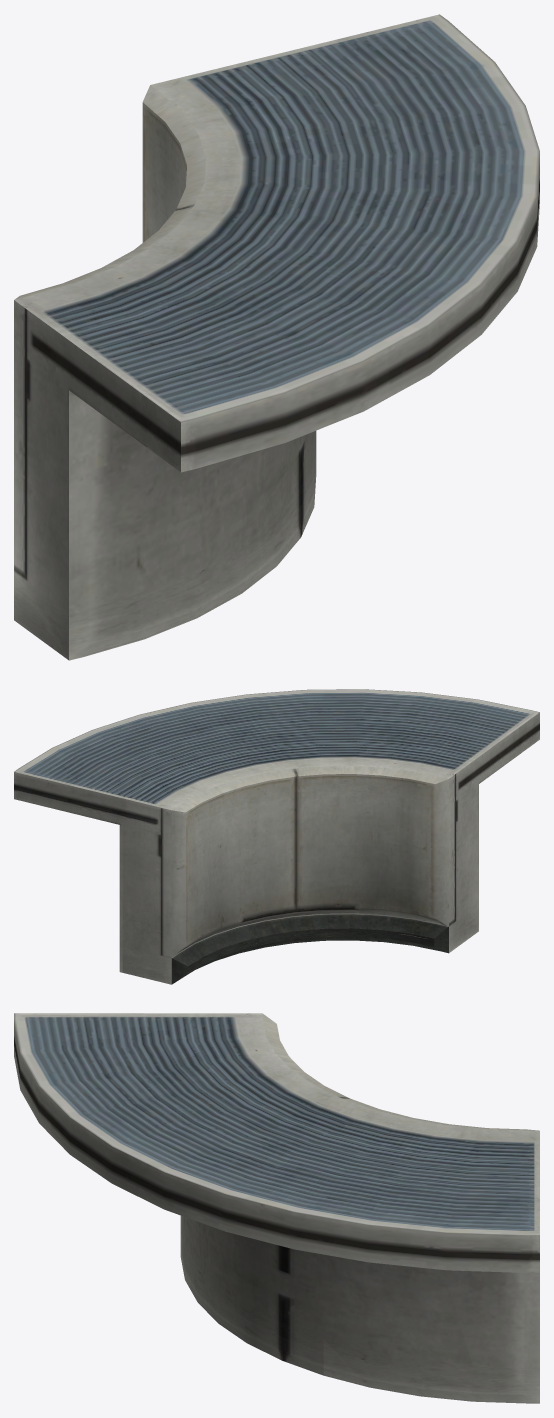
The model's file is Neon_CounterCrv_In_01.FBX.
3 views of the same model, one above another, from view 1: azimuth 30°, elevation 25°; view 2: azimuth 150°, elevation 25°; view 3: azimuth 270°, elevation 25° (orthographic). The views are drawn at different scales.
Parts seen in each view (by area): view 1: Neon_CounterCrv_In_01; view 2: Neon_CounterCrv_In_01; view 3: Neon_CounterCrv_In_01.
Part boxes in pixels (bbox=[...]): Neon_CounterCrv_In_01: bbox=[14, 14, 539, 660]; Neon_CounterCrv_In_01: bbox=[14, 689, 539, 984]; Neon_CounterCrv_In_01: bbox=[14, 1013, 539, 1403].
Size of the model in its own units: 2 by 0.9999 by 2.
